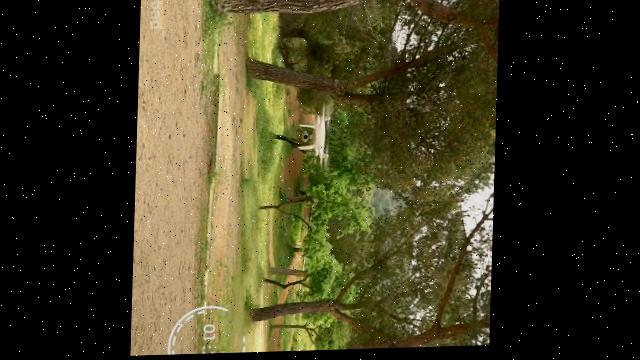drone: (297, 101, 332, 174)
